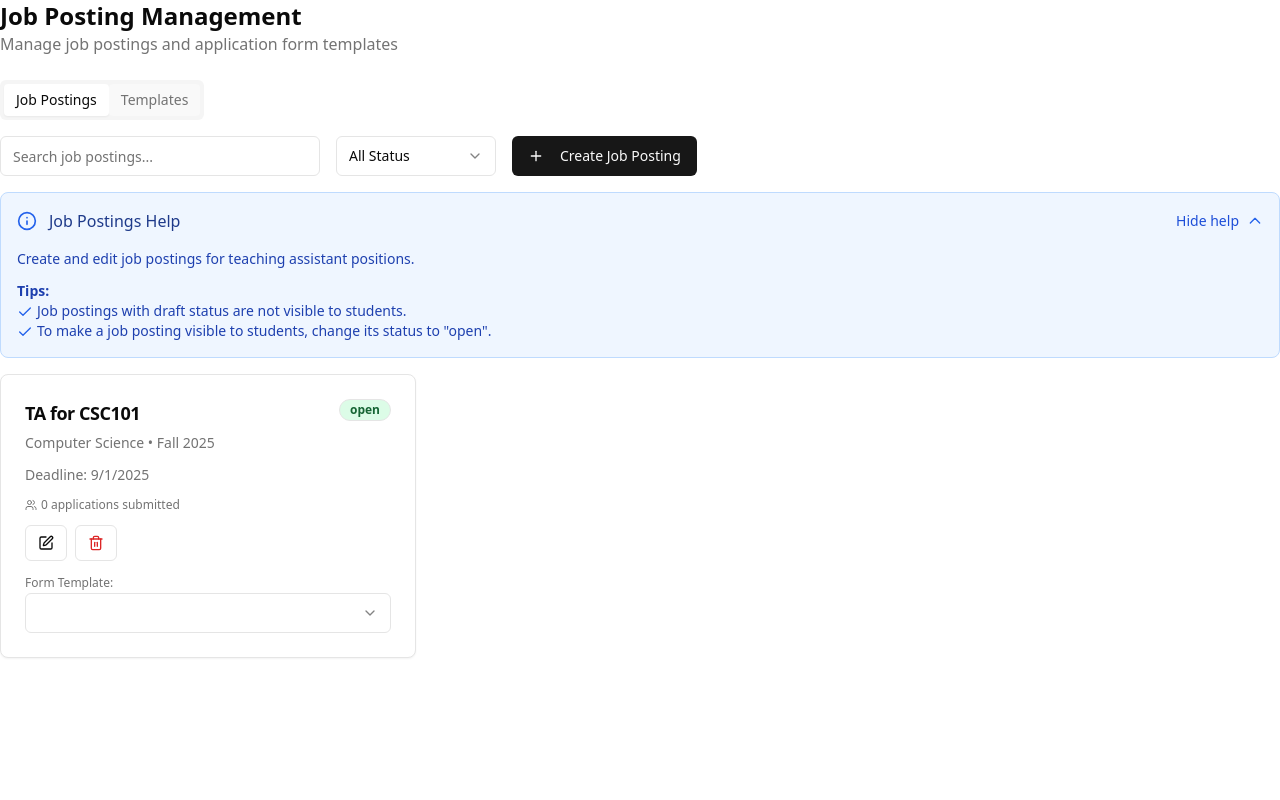
JobManagementPage › opens job posting dialog when clicking Create Job Posting
This screenshot has width=1280, height=800.
Expected: the text "TA for CSC101" is shown, [25, 399, 140, 427]
Click the button "Create Job Posting": (604, 156) [512, 136, 697, 176]
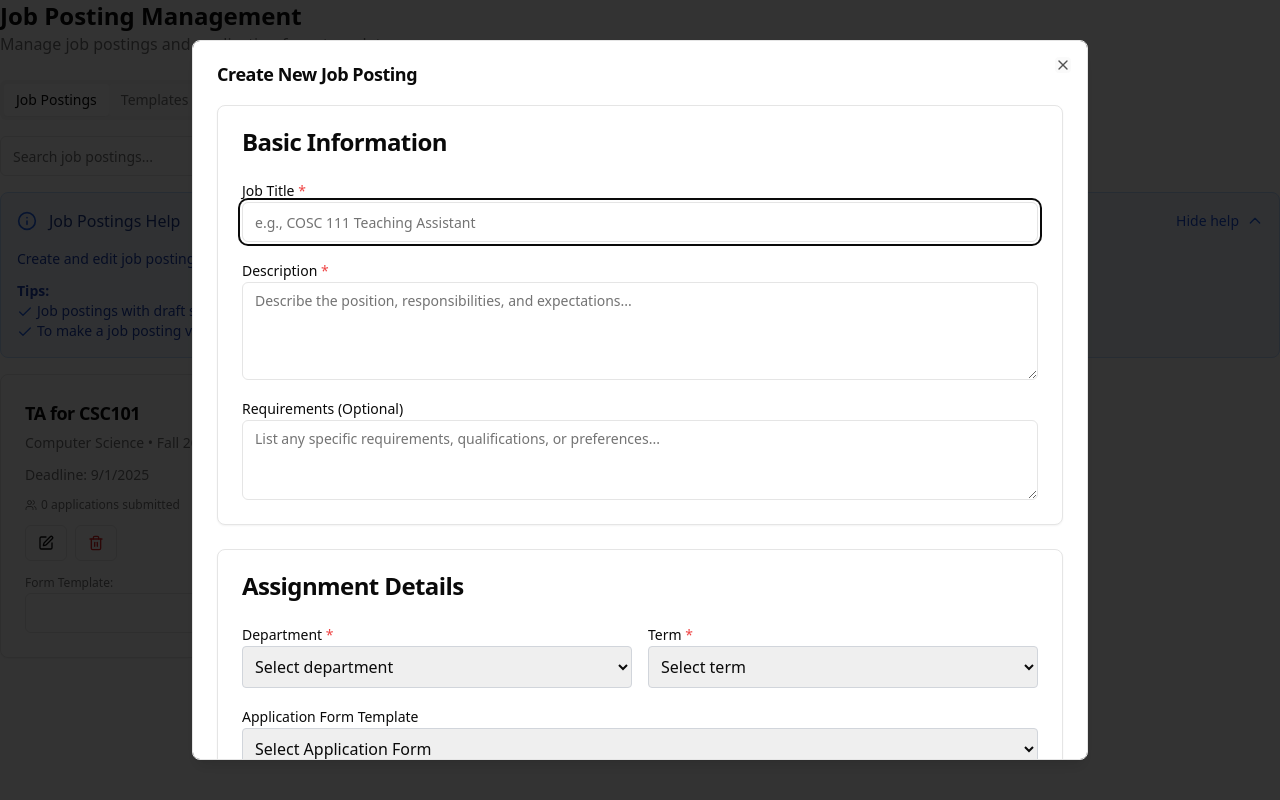
Now the heading "Create New Job Posting" is shown, box [217, 62, 417, 86]
